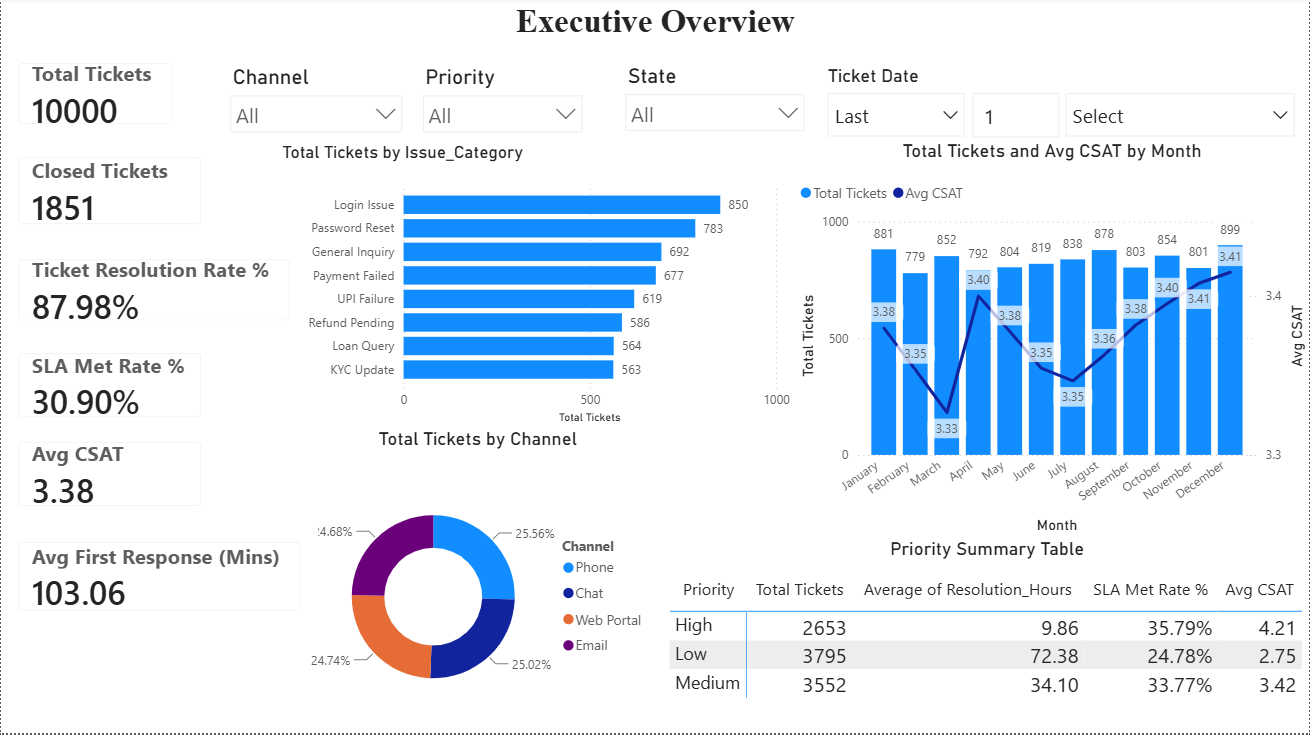

This screenshot's page, from the dashboard's own definition file:
{"tool":"powerbi","page":{"name":"Executive Overview","canvas":[1280,720],"ordinal":0},"visuals":[{"type":"cardVisual","fields":{"Data":["_Measures.Avg CSAT"]},"box":[0,418.2,214,97.8],"z":0},{"type":"cardVisual","fields":{"Data":["_Measures.Closed Tickets"]},"box":[0,139.4,214,100.3],"z":1000},{"type":"cardVisual","fields":{"Data":["_Measures.SLA Met Rate %"]},"box":[0,331.4,214,97.8],"z":2000},{"type":"cardVisual","fields":{"Data":["_Measures.Total Tickets"]},"box":[0,47.7,185.9,94.2],"z":3000},{"type":"clusteredBarChart","fields":{"Category":["customer_support_tickets.Issue_Category"],"Y":["_Measures.Total Tickets"]},"box":[270.2,141.8,506.3,280],"z":4000},{"type":"donutChart","fields":{"Category":["customer_support_tickets.Channel"],"Y":["_Measures.Total Tickets"]},"box":[292.3,421.9,348.5,297.8],"z":5000},{"type":"slicer","fields":{"Values":["customer_support_tickets.Ticket_Date"]},"box":[796.1,61.1,484.2,78.3],"z":6000},{"type":"slicer","fields":{"Values":["customer_support_tickets.Channel"]},"box":[214,61.1,188.3,78.3],"z":7000},{"type":"slicer","fields":{"Values":["customer_support_tickets.Priority"]},"box":[402.3,61.1,176.1,78.3],"z":8000},{"type":"slicer","fields":{"Values":["customer_support_tickets.State"]},"box":[600.4,59.9,195.7,79.5],"z":9000},{"type":"actionButton","box":[0,0,100,40],"z":10000},{"type":"cardVisual","fields":{"Data":["_Measures.Ticket Resolution Rate %"]},"box":[0,239.7,300.8,94.2],"z":11000},{"type":"cardVisual","fields":{"Data":["_Measures.Avg First Response (Mins)"]},"box":[0,516,310.6,102.7],"z":12000},{"type":"lineStackedColumnComboChart","fields":{"Category":["customer_support_tickets.Ticket_Date.Variation.Date Hierarchy.Month"],"Y":["_Measures.Total Tickets"],"Y2":["_Measures.Avg CSAT"]},"box":[776.5,139.4,503.8,390.1],"z":13000},{"type":"pivotTable","title":"Priority Summary Table","fields":{"Rows":["customer_support_tickets.Priority"],"Values":["_Measures.Total Tickets","Avg(customer_support_tickets.Resolution_Hours)","_Measures.SLA Met Rate %","_Measures.Avg CSAT"]},"box":[649.3,529.5,631,190.8],"z":14000},{"type":"textbox","box":[0,0,1280.3,51.4],"z":15000}]}

Visuals, with their boxes in screenshot pixels (x1, y1, x2, y2), scaled from the page's 1280x720 canvas onto the 1310x736 screenshot:
cardVisual - _Measures.Avg CSAT: [x1=0, y1=427, x2=219, y2=527]
cardVisual - _Measures.Closed Tickets: [x1=0, y1=142, x2=219, y2=245]
cardVisual - _Measures.SLA Met Rate %: [x1=0, y1=339, x2=219, y2=439]
cardVisual - _Measures.Total Tickets: [x1=0, y1=49, x2=190, y2=145]
clusteredBarChart - customer_support_tickets.Issue_Category x _Measures.Total Tickets: [x1=277, y1=145, x2=795, y2=431]
donutChart - customer_support_tickets.Channel x _Measures.Total Tickets: [x1=299, y1=431, x2=656, y2=735]
slicer - customer_support_tickets.Ticket_Date: [x1=815, y1=62, x2=1309, y2=142]
slicer - customer_support_tickets.Channel: [x1=219, y1=62, x2=412, y2=142]
slicer - customer_support_tickets.Priority: [x1=412, y1=62, x2=592, y2=142]
slicer - customer_support_tickets.State: [x1=614, y1=61, x2=815, y2=142]
actionButton: [x1=0, y1=0, x2=102, y2=41]
cardVisual - _Measures.Ticket Resolution Rate %: [x1=0, y1=245, x2=308, y2=341]
cardVisual - _Measures.Avg First Response (Mins): [x1=0, y1=527, x2=318, y2=632]
lineStackedColumnComboChart - customer_support_tickets.Ticket_Date.Variation.Date Hierarchy.Month x _Measures.Total Tickets: [x1=795, y1=142, x2=1309, y2=541]
"Priority Summary Table" pivotTable: [x1=665, y1=541, x2=1309, y2=735]
textbox: [x1=0, y1=0, x2=1309, y2=53]
